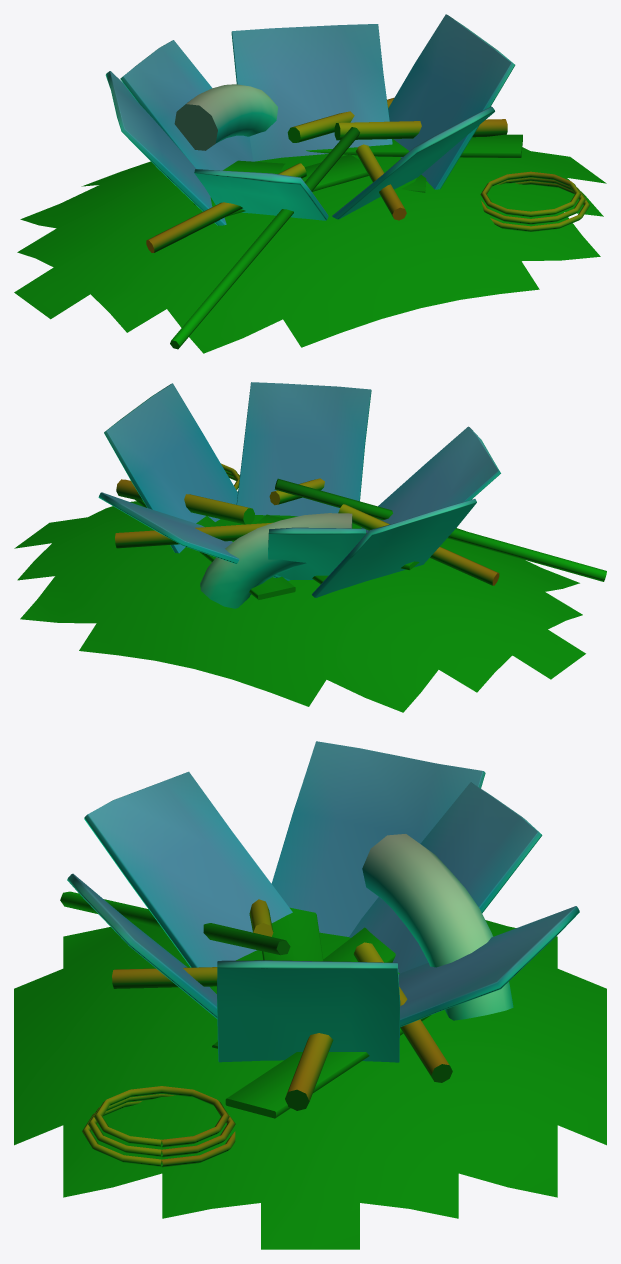
The model's file is salvage_pile.glb.
3 renders of one model, top to bottom at view 1: azimuth 30°, elevation 25°; view 2: azimuth 150°, elevation 25°; view 3: azimuth 270°, elevation 25°, orthographic. The views are drawn at different scales.
Parts seen in each view (by area): view 1: salvage_pile; view 2: salvage_pile; view 3: salvage_pile.
Part boxes in pixels (<box>): salvage_pile: <box>14,14,606,353</box>; salvage_pile: <box>14,382,606,712</box>; salvage_pile: <box>14,741,606,1249</box>.
Size of what is drawn, in the model's own units: 3.2 by 0.9058 by 2.19.
